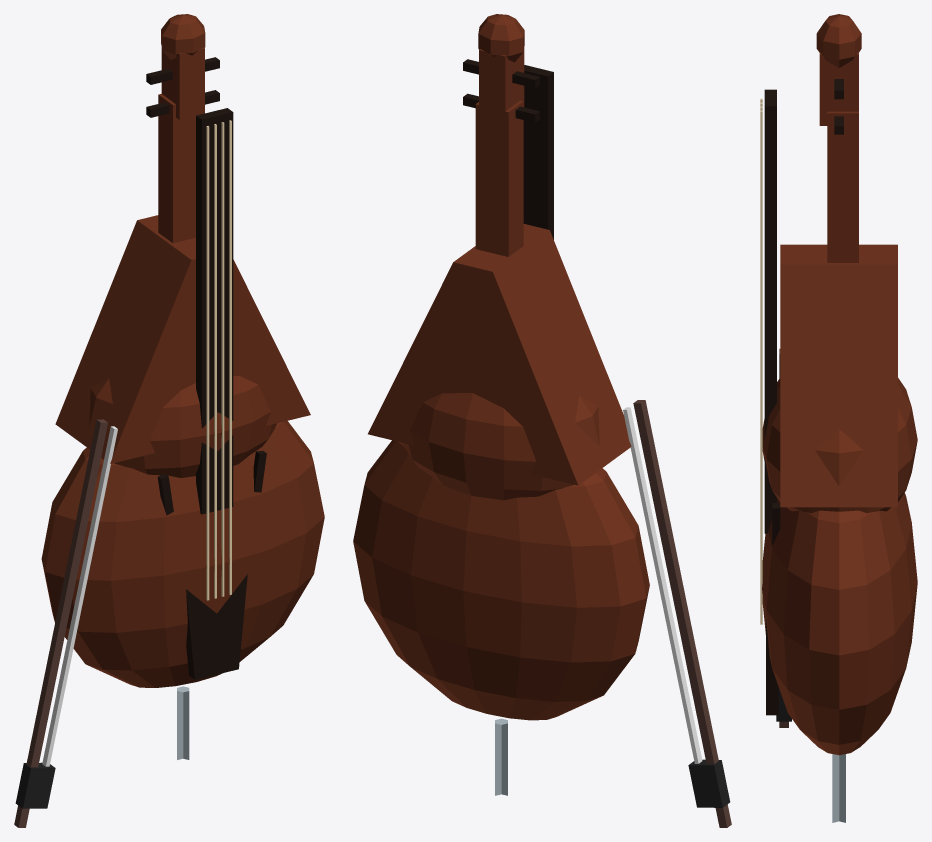
Rendered from kontrabas.glb.
3 renders of one model, left to right at view 1: azimuth 30°, elevation 25°; view 2: azimuth 150°, elevation 25°; view 3: azimuth 270°, elevation 25°, orthographic. The views are drawn at different scales.
Parts seen in each view (by area): view 1: kontrabas; view 2: kontrabas; view 3: kontrabas.
Part boxes in pixels (<box>): kontrabas: <box>14,14,324,827</box>; kontrabas: <box>353,14,731,827</box>; kontrabas: <box>760,14,917,822</box>.
Bounding box in the file's own units: 0.5259 × 1.14 × 0.2004.
